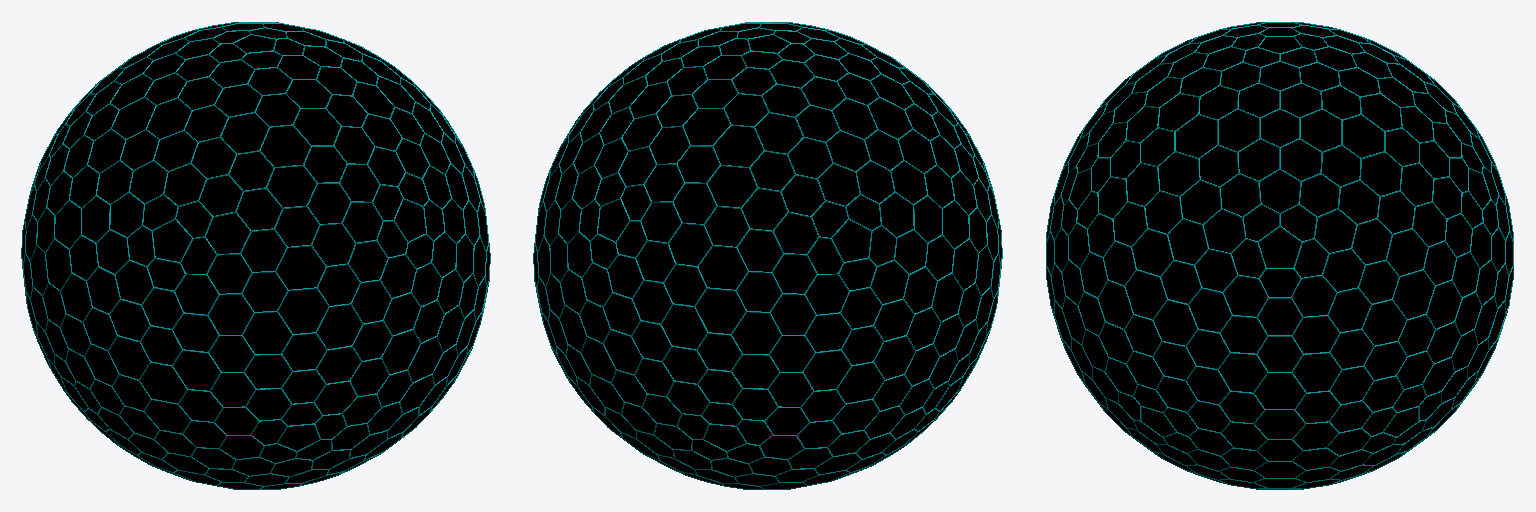
The model's file is hex-sphere.obj.
3 renders of one model, left to right at view 1: azimuth 30°, elevation 25°; view 2: azimuth 150°, elevation 25°; view 3: azimuth 270°, elevation 25°, orthographic.
Parts seen in each view (by area): view 1: Sphere_Icosphere.002, Frame_Icosphere.001; view 2: Sphere_Icosphere.002, Frame_Icosphere.001; view 3: Sphere_Icosphere.002, Frame_Icosphere.001.
Boxes of the visible parts, x1,y1,x2,y2 form: Sphere_Icosphere.002: [22, 23, 489, 488]; Frame_Icosphere.001: [21, 22, 490, 489]; Sphere_Icosphere.002: [534, 23, 1001, 488]; Frame_Icosphere.001: [533, 22, 1002, 489]; Sphere_Icosphere.002: [1047, 23, 1512, 488]; Frame_Icosphere.001: [1046, 22, 1513, 489].
Bounding box in the file's own units: 1.98 × 1.98 × 1.98.